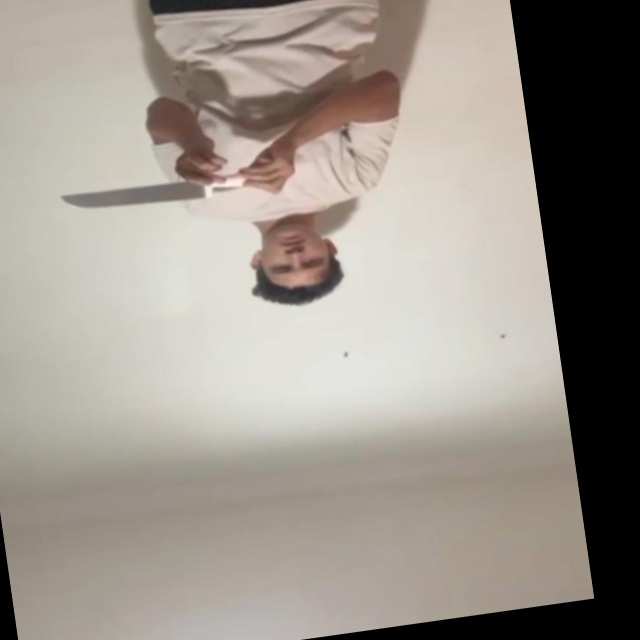Sharp-Object: (57, 176, 207, 222)
